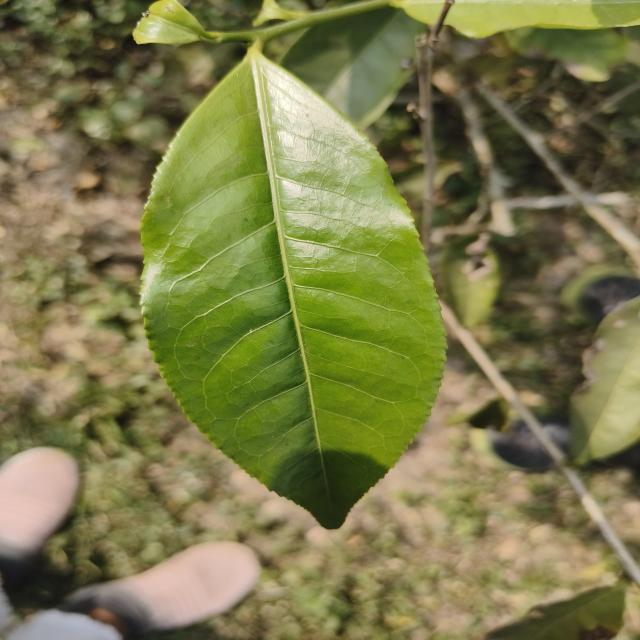Leaf: (141, 47, 446, 528), (280, 7, 422, 129), (570, 297, 640, 464), (440, 233, 501, 327)
